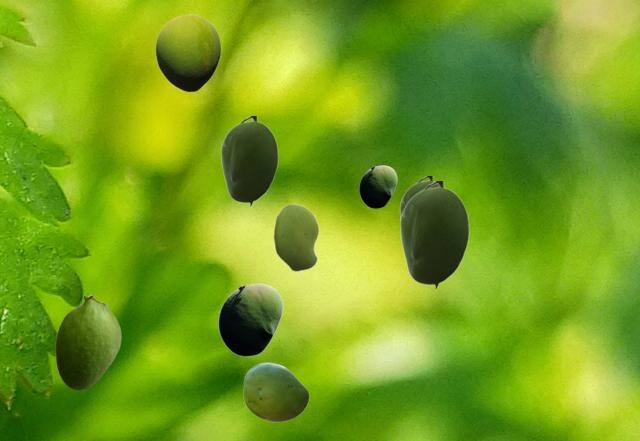green_mango: (399, 181, 468, 289), (55, 294, 120, 389), (220, 116, 277, 206), (155, 14, 220, 91), (218, 283, 282, 355), (243, 362, 308, 421), (273, 203, 318, 271), (399, 176, 437, 217), (359, 165, 396, 207)
